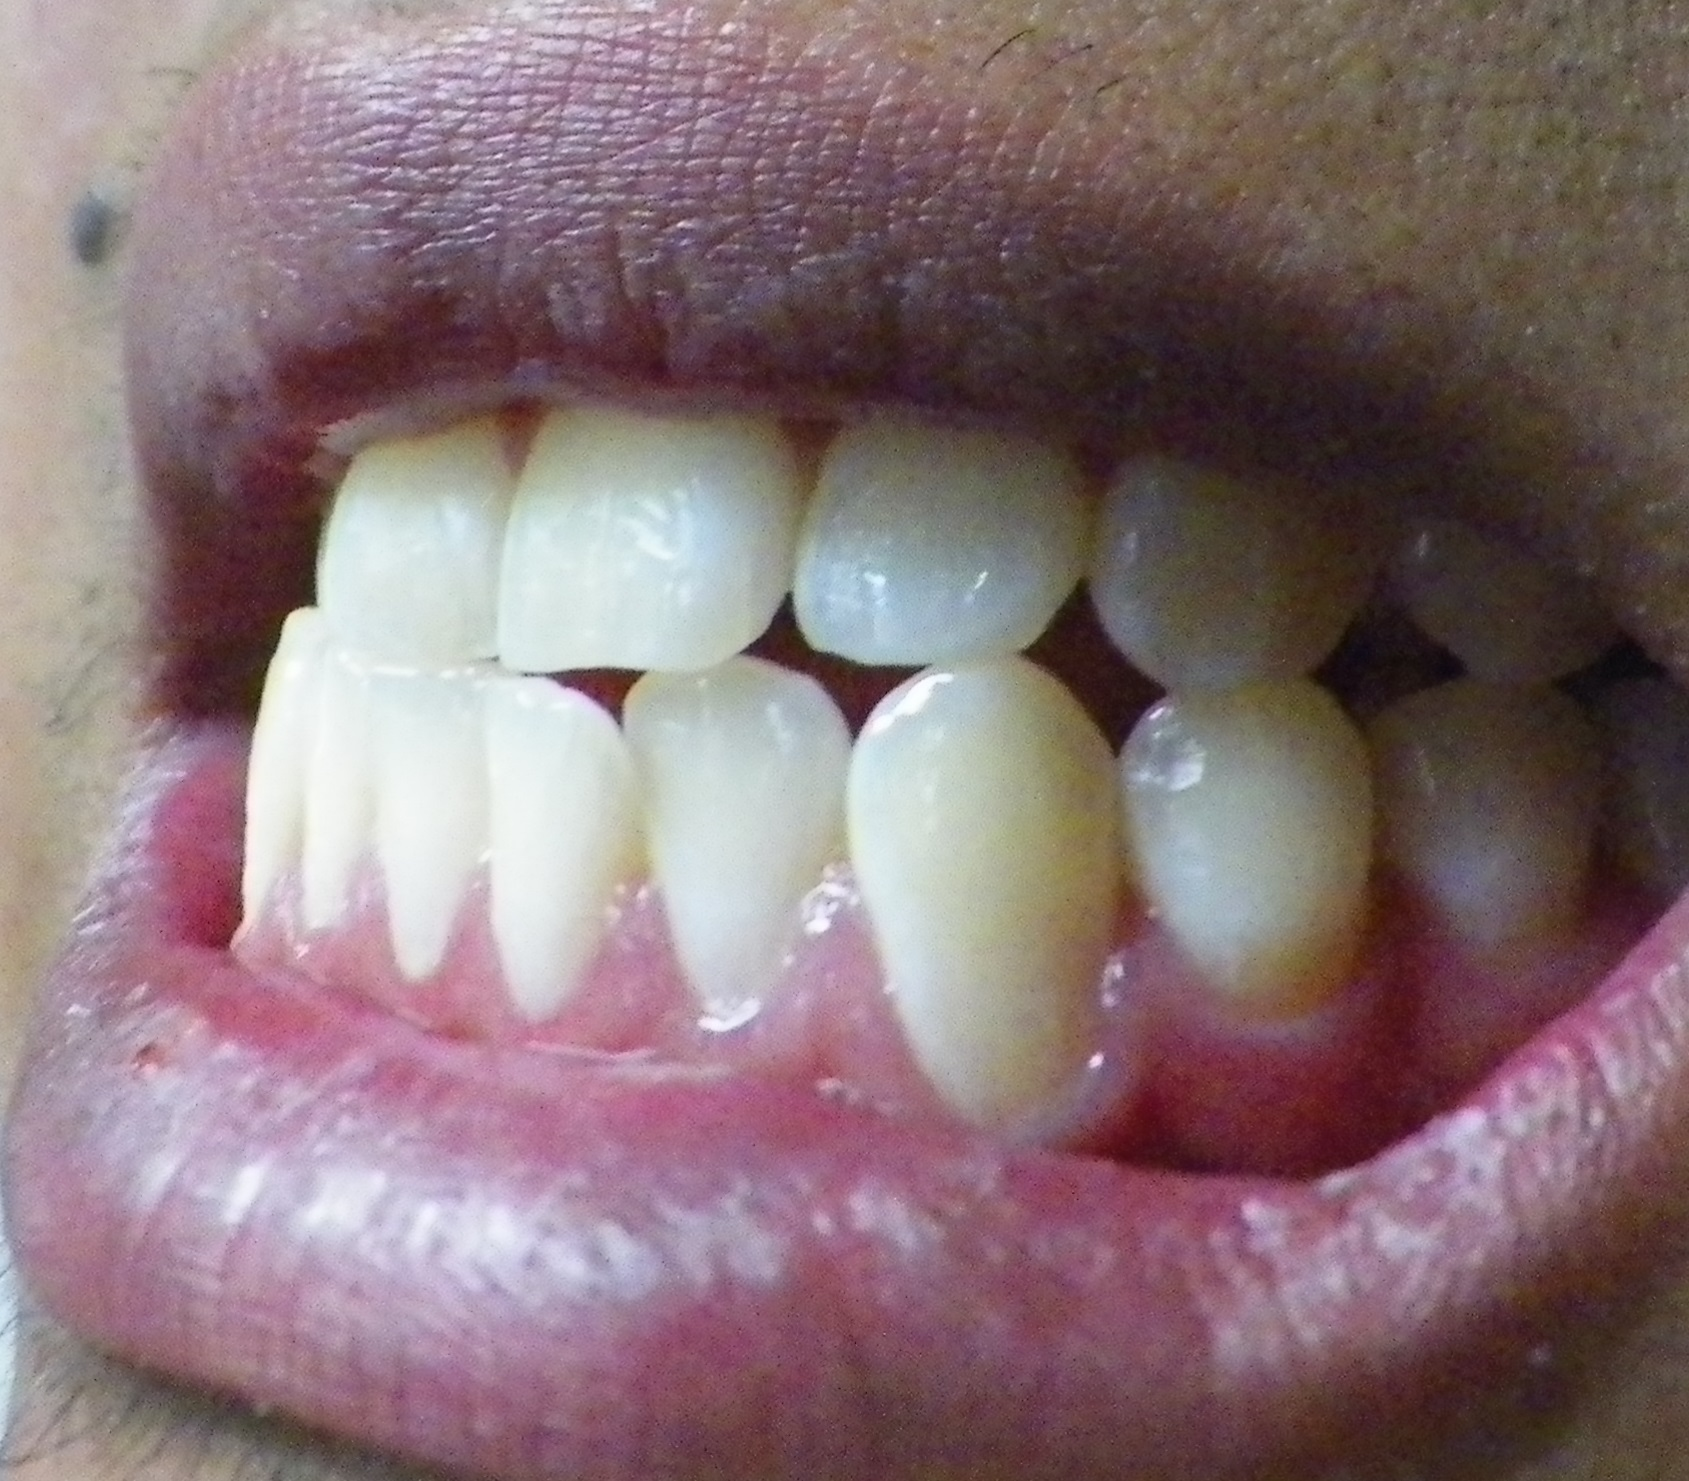boca: (225, 422, 1634, 1090)
